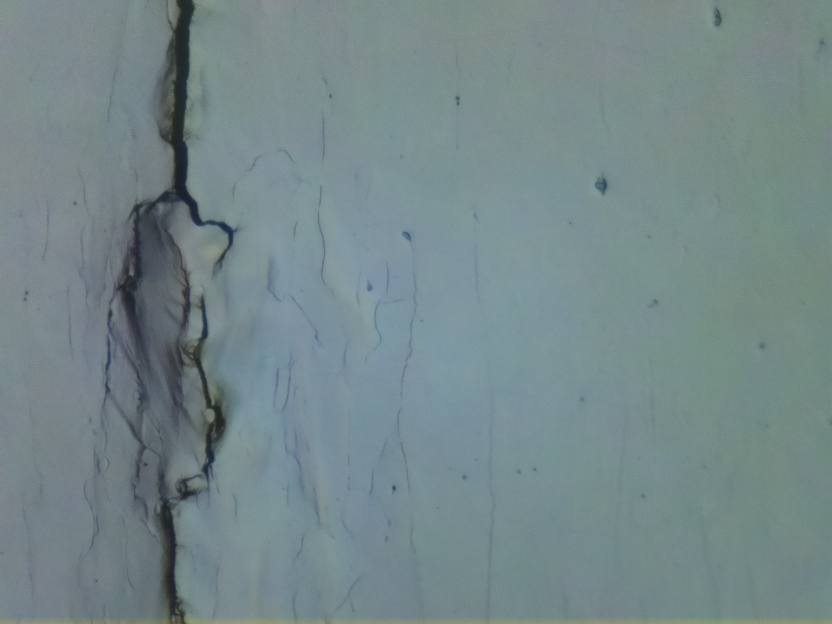crack: (162, 295, 228, 624), (163, 0, 233, 273)
